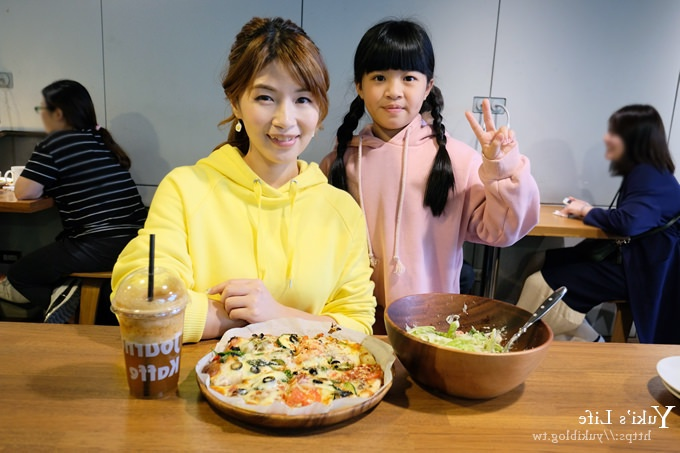cup: (106, 265, 193, 403)
face: (221, 28, 339, 172), (346, 24, 441, 134)
hand: (209, 277, 290, 328), (473, 95, 514, 168)
